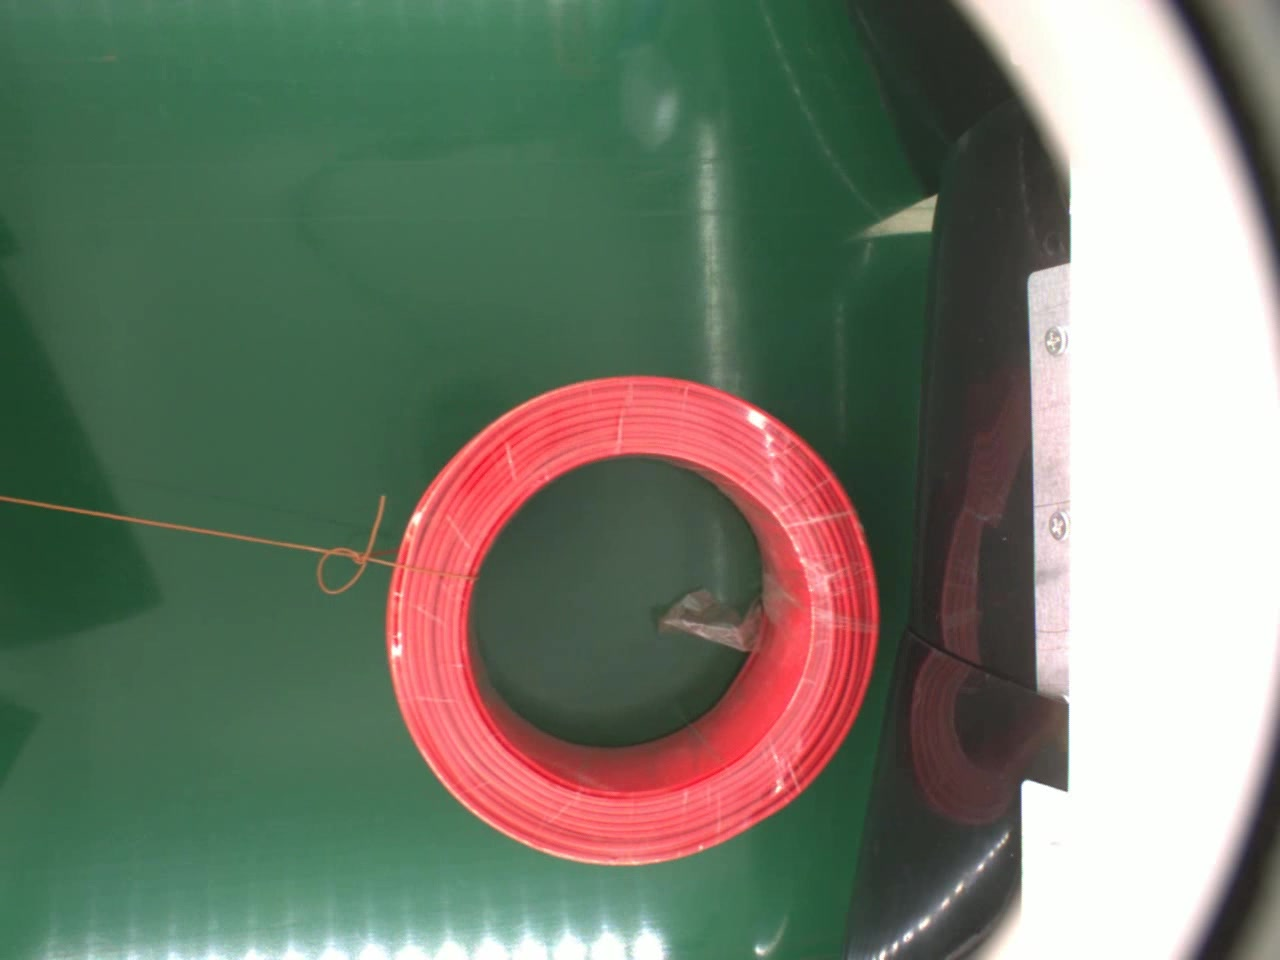red: (372, 370, 891, 881)
